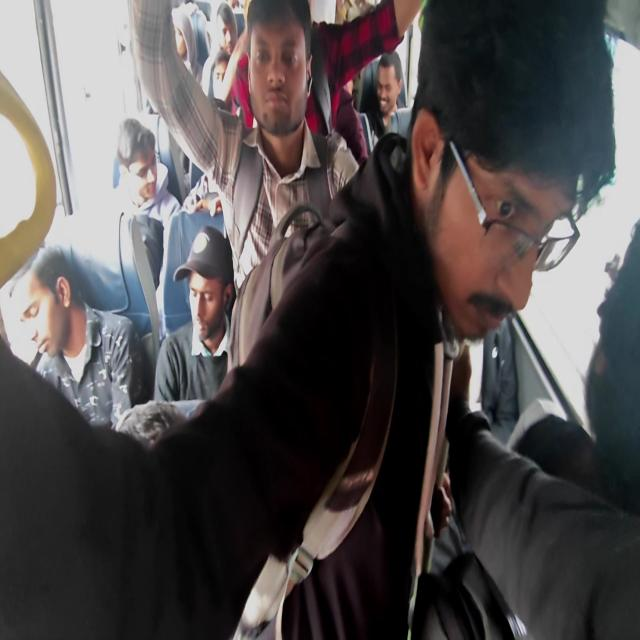person: (424, 30, 577, 334), (12, 242, 88, 360), (272, 0, 338, 122), (247, 15, 306, 129), (184, 239, 236, 342), (114, 112, 166, 208), (186, 162, 230, 226), (156, 13, 197, 78), (379, 57, 406, 114), (215, 8, 241, 60), (211, 59, 233, 118)
